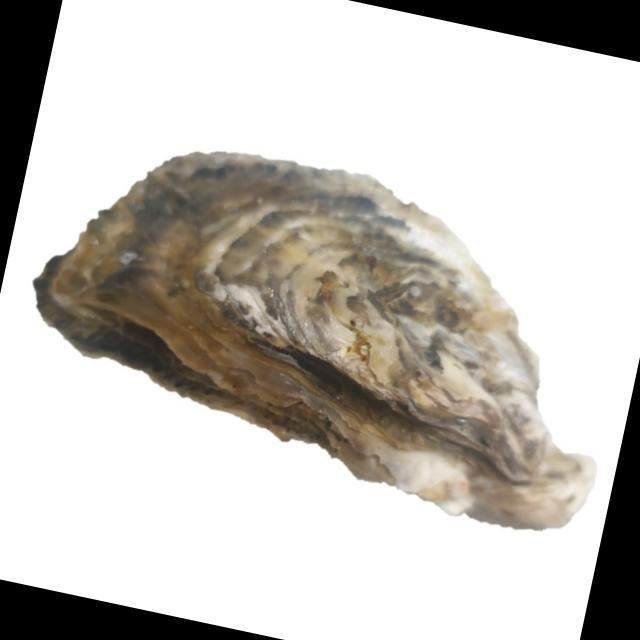Oyster- Indeterminate: (39, 152, 596, 534)
